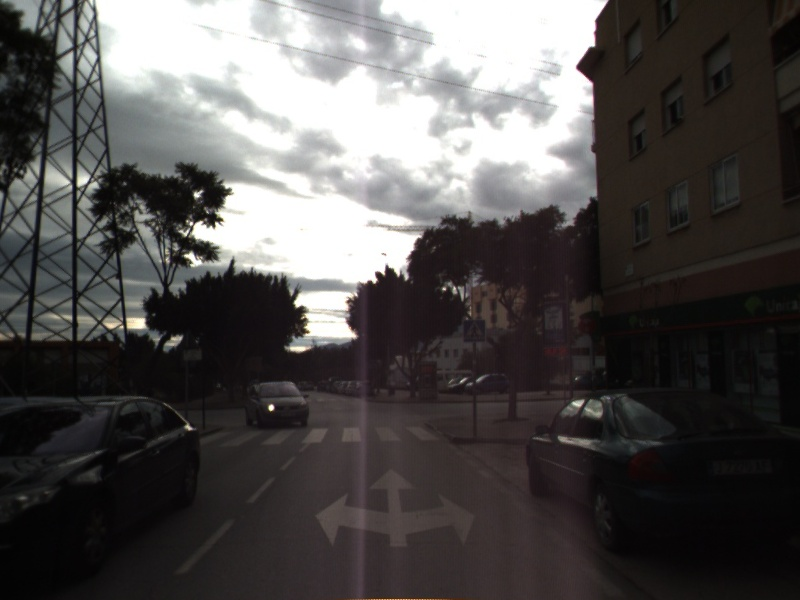STRAIGHT_LEFT_RIGHT: (313, 466, 478, 549)
